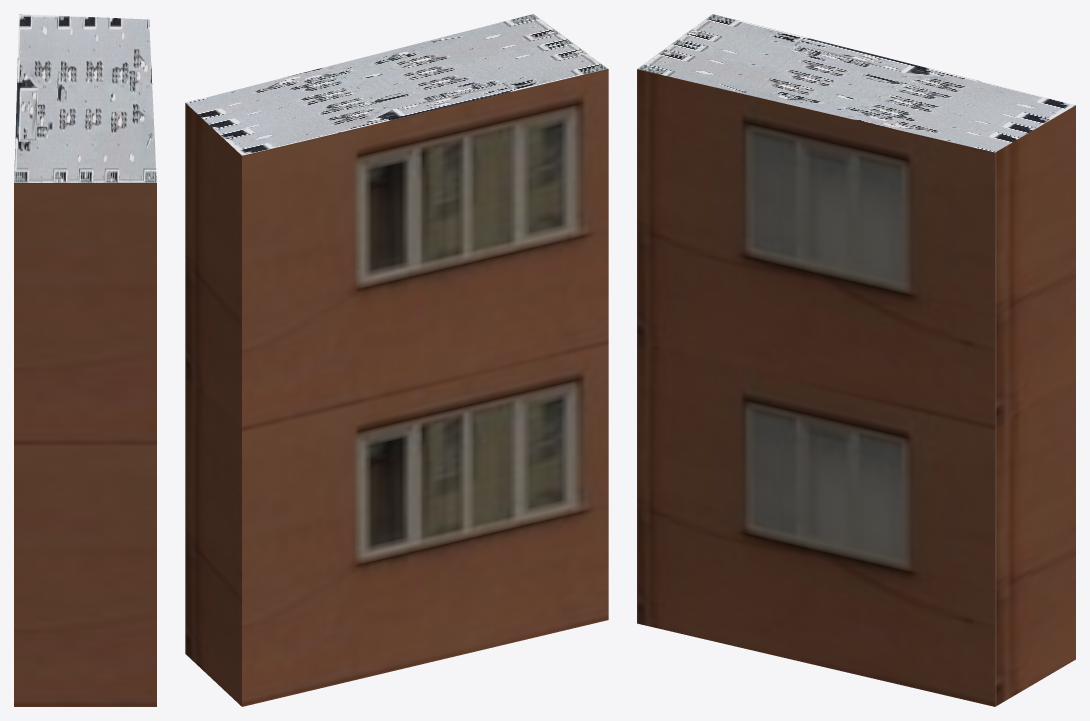
File: ResTex__764.fbx
3 renders of one model, left to right at view 1: azimuth 30°, elevation 25°; view 2: azimuth 150°, elevation 25°; view 3: azimuth 270°, elevation 25°, orthographic. The views are drawn at different scales.
Visible parts, largest first — view 1: CityEngineMaterial_20_m, CityEngineMaterial_m; view 2: CityEngineMaterial_20_m, CityEngineMaterial_m; view 3: CityEngineMaterial_20_m, CityEngineMaterial_m.
Part boxes in pixels (left/top/right/bottom): CityEngineMaterial_20_m: left=14, top=183, right=156, bottom=706; CityEngineMaterial_m: left=14, top=14, right=156, bottom=182; CityEngineMaterial_20_m: left=185, top=69, right=608, bottom=706; CityEngineMaterial_m: left=185, top=14, right=607, bottom=155; CityEngineMaterial_20_m: left=637, top=69, right=1075, bottom=706; CityEngineMaterial_m: left=637, top=14, right=1075, bottom=152.
Bounding box in the file's own units: 3.22 × 6 × 4.3.
2 materials, 2 textured.
